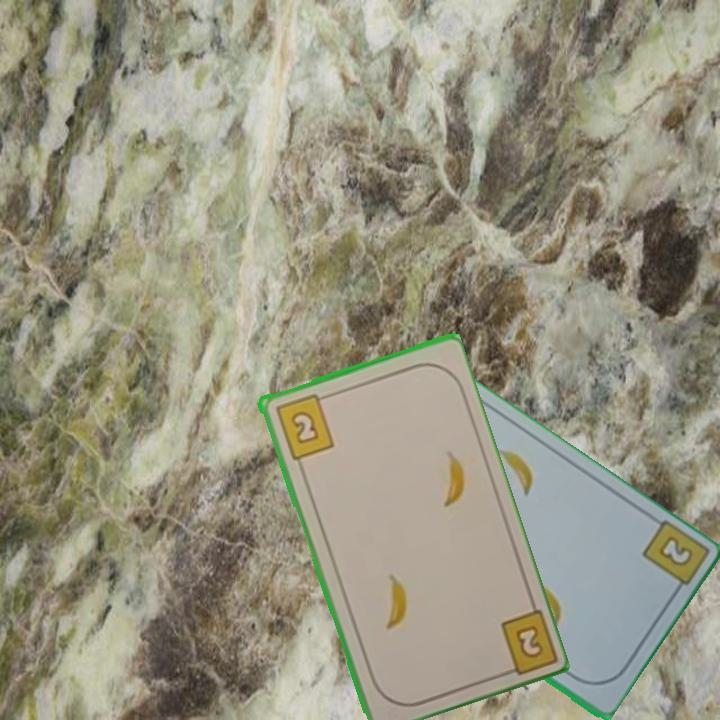2b: (494, 603, 557, 680), (271, 390, 337, 462), (654, 532, 696, 570)
